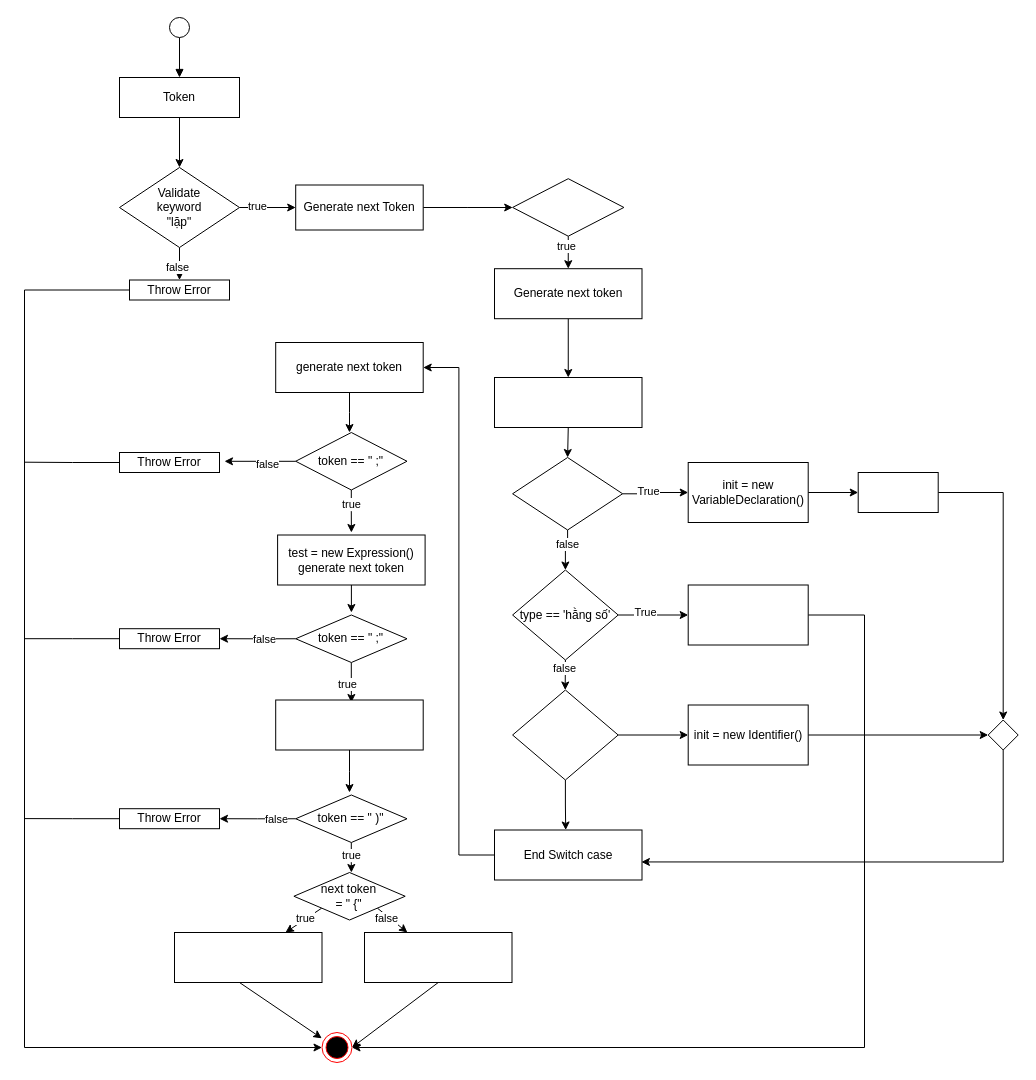
This 1036x1080 diagram has some shape labels left out. The shapes that lost their labels are listed below. From the top down, each one's centre as x and y in pixels, then its label:
(568,207): token == " ( "
(568,402): Switch case token type
(567,493): type == 'khai báo'
(897,492): Break
(747,614): throw error "Hằng số không được sử dụng trong vòng lặp"
(349,724): update = new Expression() generate next token
(565,734): default
(248,957): body = BlockStatement
(438,957): body = Statement
